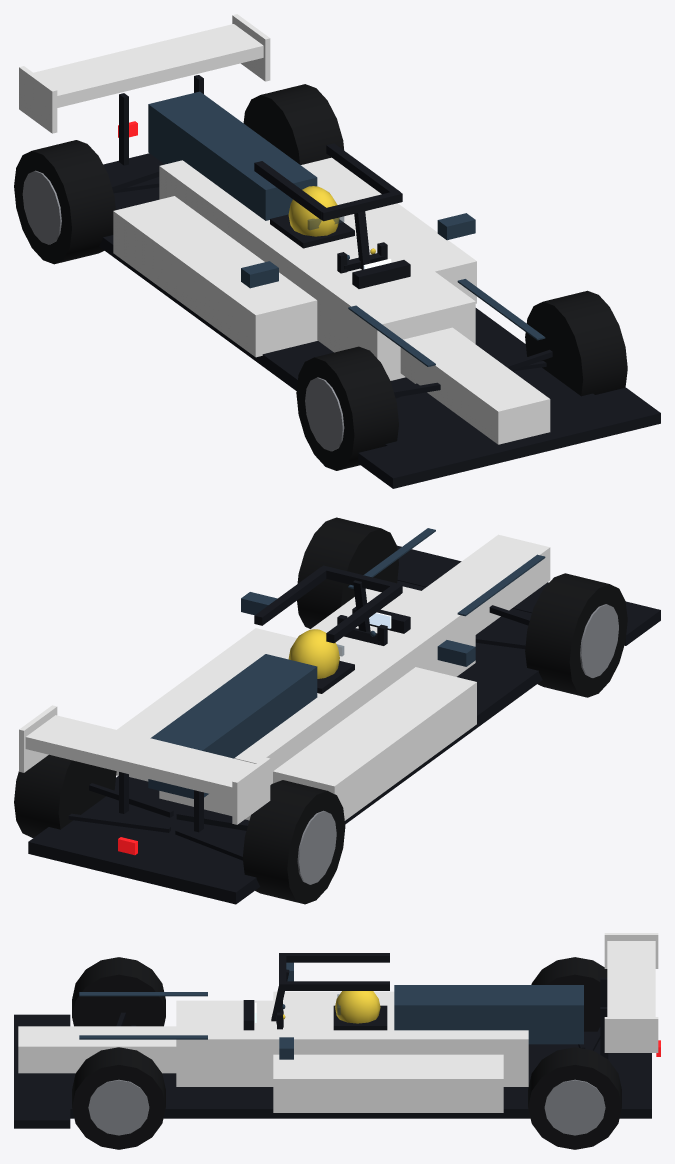
3 views of the same model, one above another, from view 1: azimuth 30°, elevation 25°; view 2: azimuth 150°, elevation 25°; view 3: azimuth 270°, elevation 25° (orthographic). The views are drawn at different scales.
Visible parts, largest first — view 1: survival-cell, sidepod-left, front-wing, engine-cover, floor, nose, rear-wing, tyre--1--1, tyre-1-1, tyre--1-1, sidepod-right, tyre-1--1 (+15 smaller); view 2: floor, sidepod-left, survival-cell, engine-cover, rear-wing, tyre--1-1, tyre--1--1, tyre-1-1, nose, tyre-1--1, sidepod-right, front-wing (+13 smaller); view 3: survival-cell, sidepod-right, engine-cover, floor, nose, tyre-1--1, tyre-1-1, tyre--1-1, front-wing, rear-wing, rim-1-1, rim-1--1 (+12 smaller).
Boxes of the visible parts, x1,y1,x2,y2 form: survival-cell: (159, 160, 475, 380); sidepod-left: (113, 196, 317, 357); front-wing: (358, 387, 660, 488); engine-cover: (148, 91, 317, 220); floor: (99, 153, 594, 446); nose: (400, 327, 550, 444); rear-wing: (33, 24, 263, 107); tyre--1--1: (14, 140, 115, 264); tyre-1-1: (525, 290, 627, 396); tyre--1-1: (296, 346, 398, 470); sidepod-right: (301, 157, 476, 303); tyre-1--1: (243, 84, 344, 164); floor: (28, 580, 542, 904); sidepod-left: (273, 667, 476, 820); survival-cell: (159, 586, 475, 820); engine-cover: (148, 654, 317, 798); rear-wing: (25, 715, 255, 799); tyre--1-1: (525, 573, 627, 697); tyre--1--1: (242, 780, 345, 904); tyre-1-1: (297, 517, 398, 628); nose: (422, 534, 550, 634); tyre-1--1: (14, 754, 116, 837); sidepod-right: (116, 628, 296, 781); front-wing: (397, 545, 660, 645); survival-cell: (176, 1000, 528, 1086); sidepod-right: (273, 1054, 503, 1112); engine-cover: (394, 985, 583, 1044); floor: (70, 1031, 651, 1118); nose: (18, 1026, 176, 1073); tyre-1--1: (528, 1047, 621, 1149); tyre-1-1: (72, 1047, 165, 1149); tyre--1-1: (72, 957, 165, 1026); front-wing: (14, 1014, 70, 1128); rear-wing: (607, 941, 655, 1016); rim-1-1: (88, 1079, 149, 1135); rim-1--1: (544, 1079, 605, 1135).
Size of the model in its own units: 1.92 by 1.05 by 4.82.
